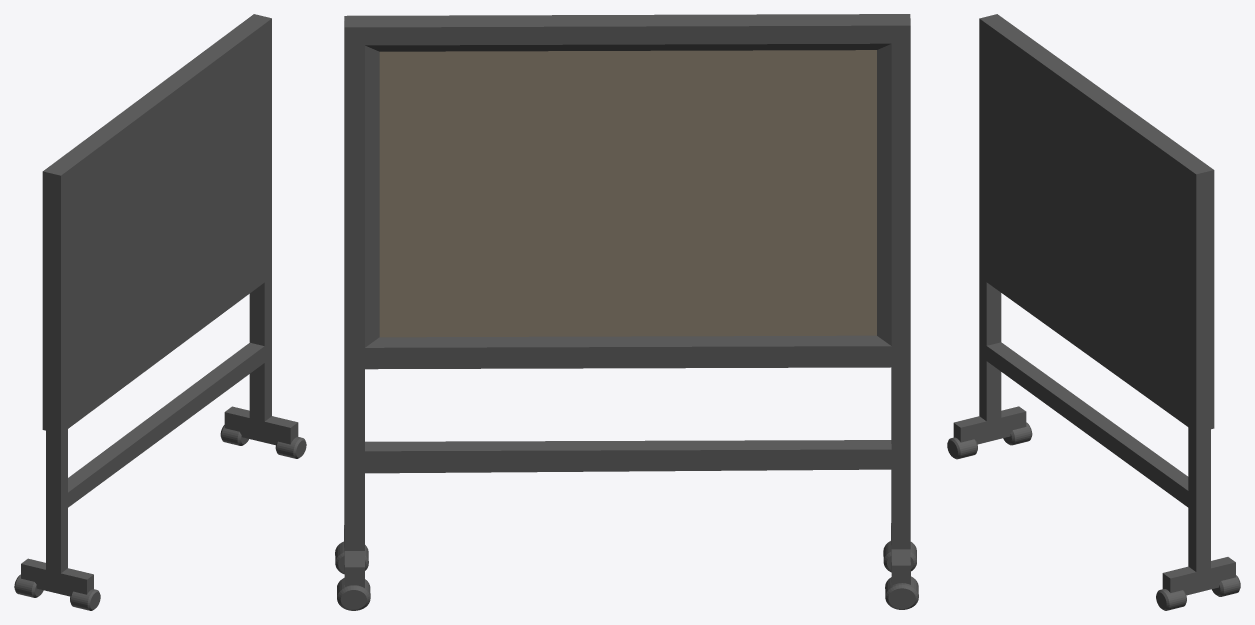
The model's file is corkboard.fbx.
The picture shows the model from 3 angles, left to right: view 1: azimuth 30°, elevation 25°; view 2: azimuth 150°, elevation 25°; view 3: azimuth 270°, elevation 25°; orthographic projection. The views are drawn at different scales.
Parts seen in each view (by area): view 1: corkboard; view 2: corkboard; view 3: corkboard.
Part boxes in pixels (<box>): corkboard: <box>14,14,306,610</box>; corkboard: <box>335,14,918,610</box>; corkboard: <box>947,14,1240,610</box>.
Size of the model in its own units: 354 by 397 by 245.
